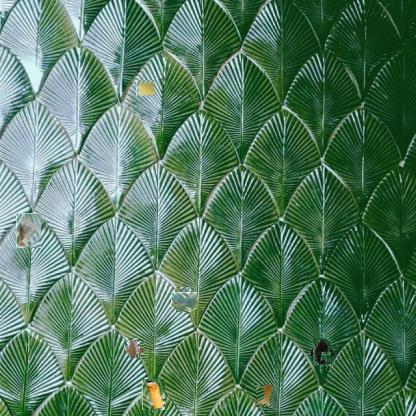dirty: (16, 213, 41, 248), (142, 378, 165, 410), (310, 341, 334, 364), (136, 80, 155, 96), (126, 340, 142, 356)
liquid: (173, 289, 194, 310), (256, 385, 274, 407)
